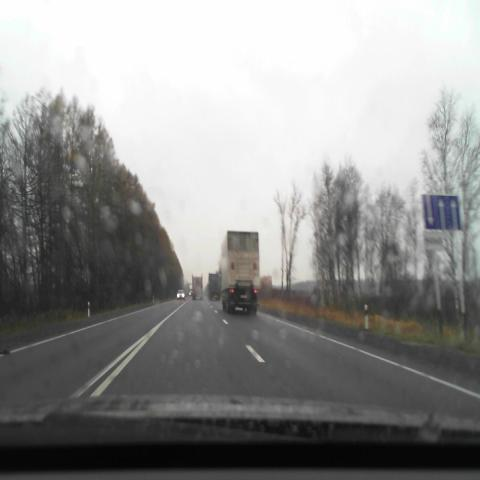5_15_7: (422, 195, 462, 230)
